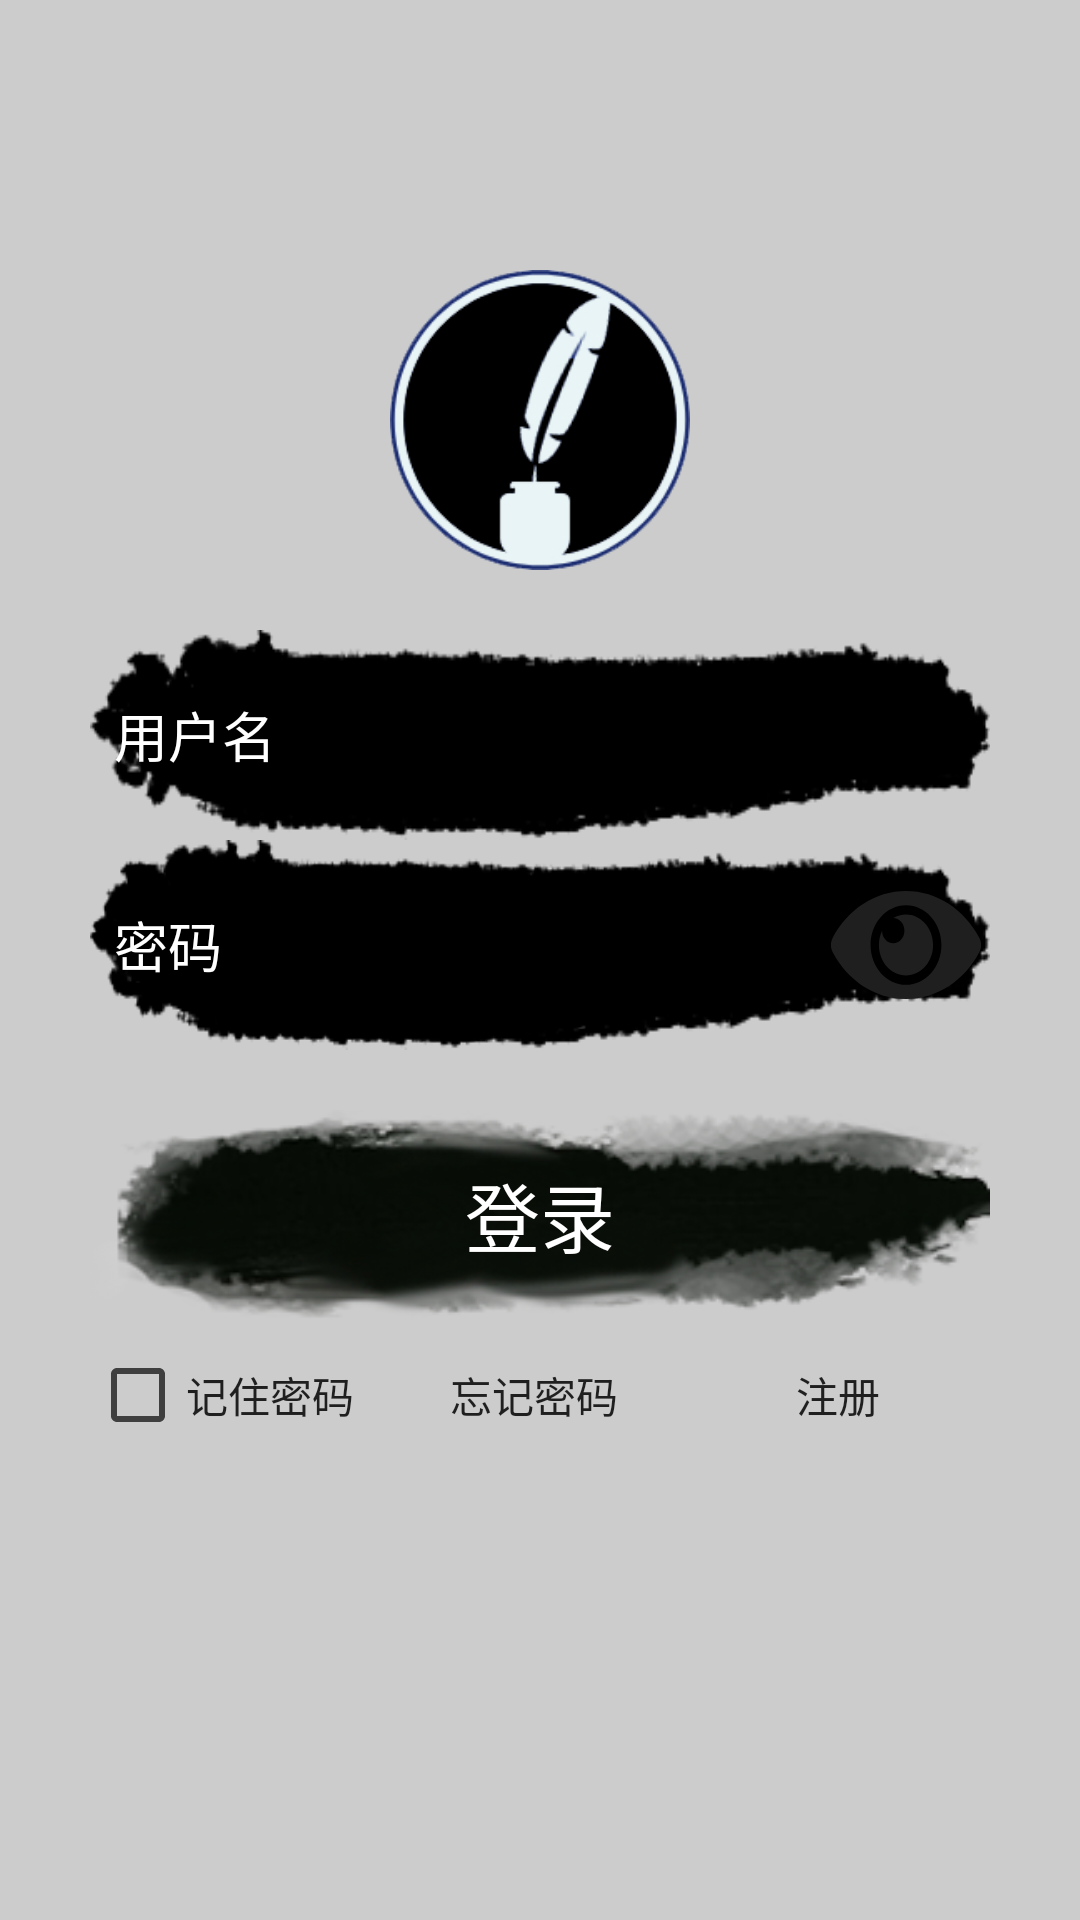

Icon click points for this 1080w x 1920h phone screenshot, format (x=x, y=y):
eye: (x=906, y=945)
